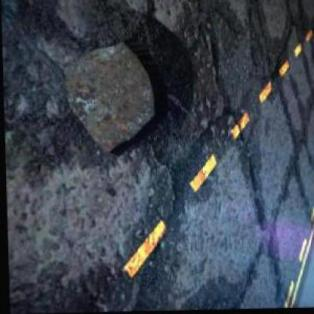Hueco: (59, 38, 169, 159)
